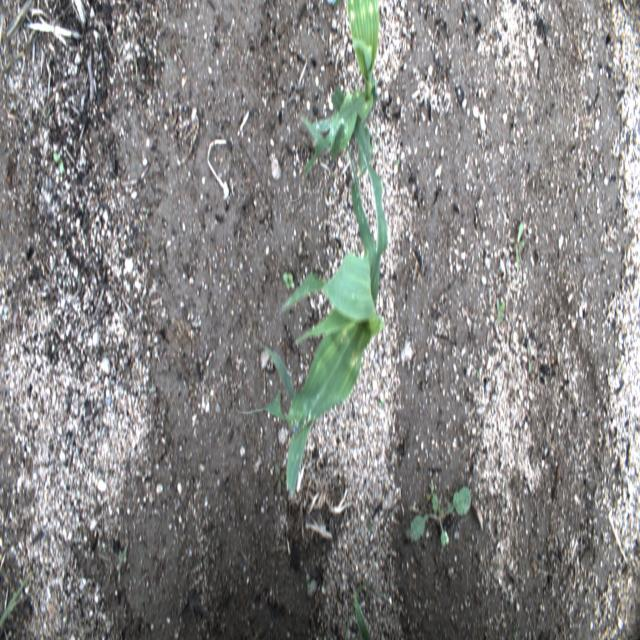crop: (238, 85, 388, 498), (300, 0, 379, 187), (355, 594, 371, 640)
weed: (405, 484, 472, 546), (0, 569, 35, 628), (511, 222, 525, 270), (118, 542, 128, 585), (51, 150, 64, 178), (275, 464, 284, 496), (282, 271, 294, 291), (496, 297, 504, 326), (325, 0, 340, 9)
